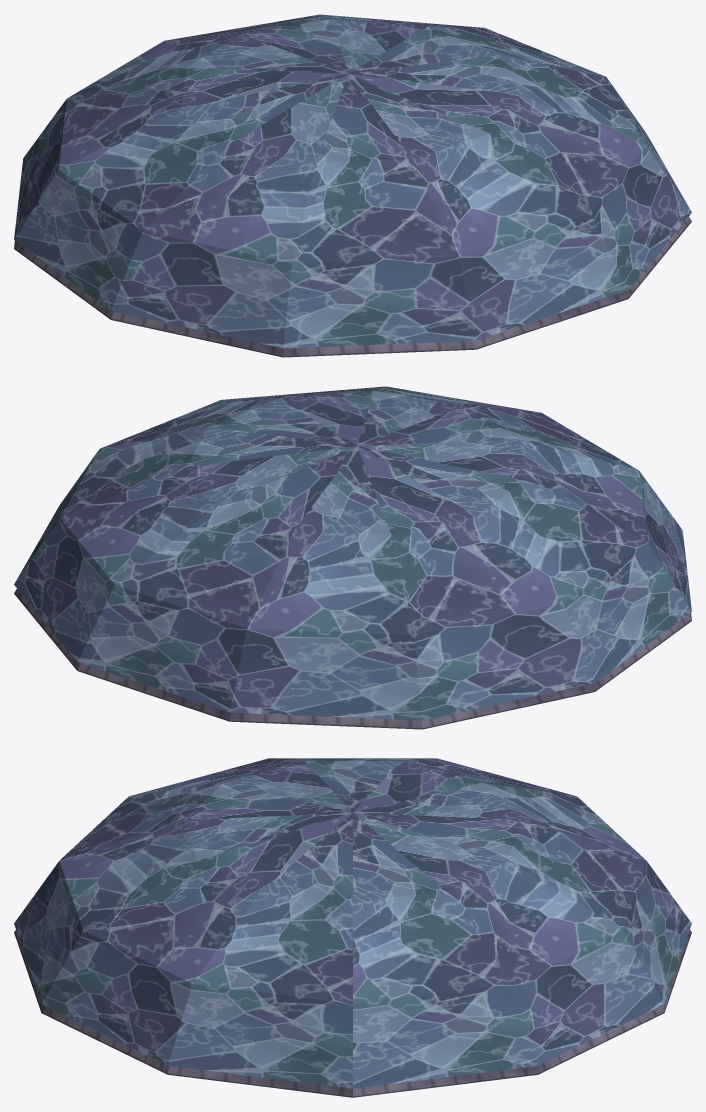
The model's file is Oracle_Vault_LOD2.gltf.
The picture shows the model from 3 angles, top to bottom: view 1: azimuth 30°, elevation 25°; view 2: azimuth 150°, elevation 25°; view 3: azimuth 270°, elevation 25°; orthographic projection.
Parts seen in each view (by area): view 1: Oracle_Vault_LOD2; view 2: Oracle_Vault_LOD2; view 3: Oracle_Vault_LOD2.
Part boxes in pixels (bbox=[...]): Oracle_Vault_LOD2: bbox=[14, 14, 691, 357]; Oracle_Vault_LOD2: bbox=[14, 386, 691, 729]; Oracle_Vault_LOD2: bbox=[14, 758, 691, 1097].
Bounding box in the file's own units: 102 × 23.5 × 103.
2 materials, 2 textured.
